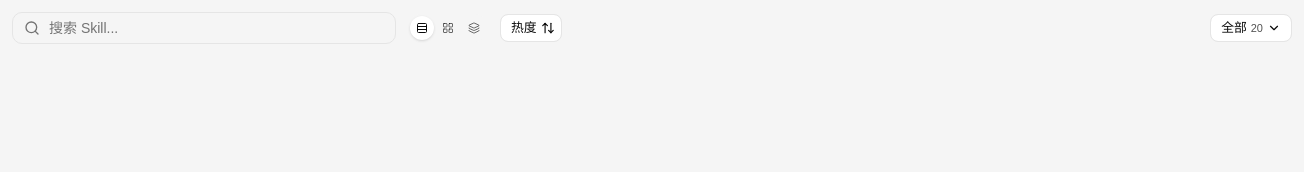
ListToolbar › takes the order control away in the card shape, and gives it back
What coordinates should you click on to do the following:
click the button named "仓库"
I would click on:
 (474, 28)
Its box is [462,16,486,40].
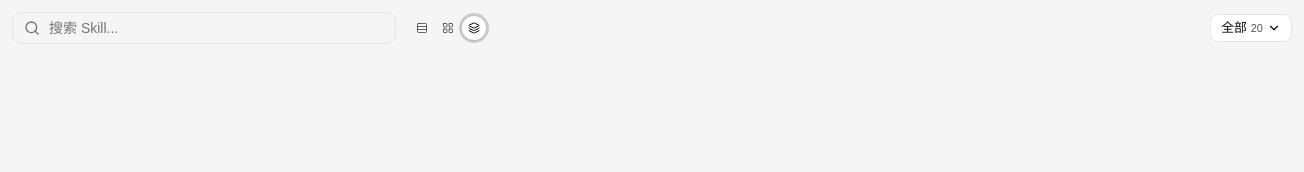
expect the button "分组方式" is gone: met
What coordinates should you click on to do the following:
click the button named "列表"
I would click on:
 (422, 28)
Its box is [410,16,434,40].
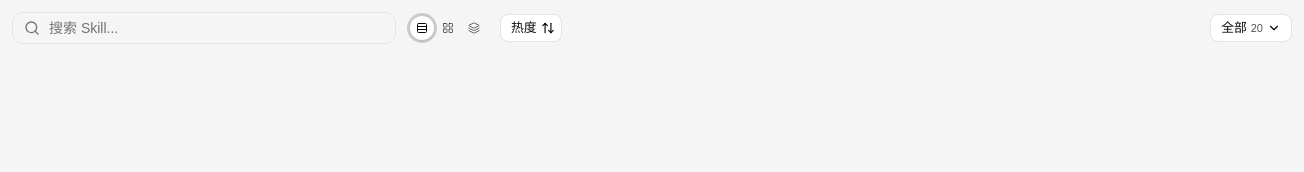
expect the button with aria-label "分组方式" is shown: met, box [500,14,562,42]
